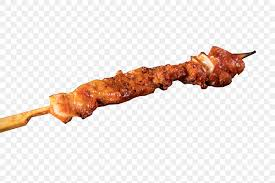Sate ayam: (0, 39, 266, 148)
